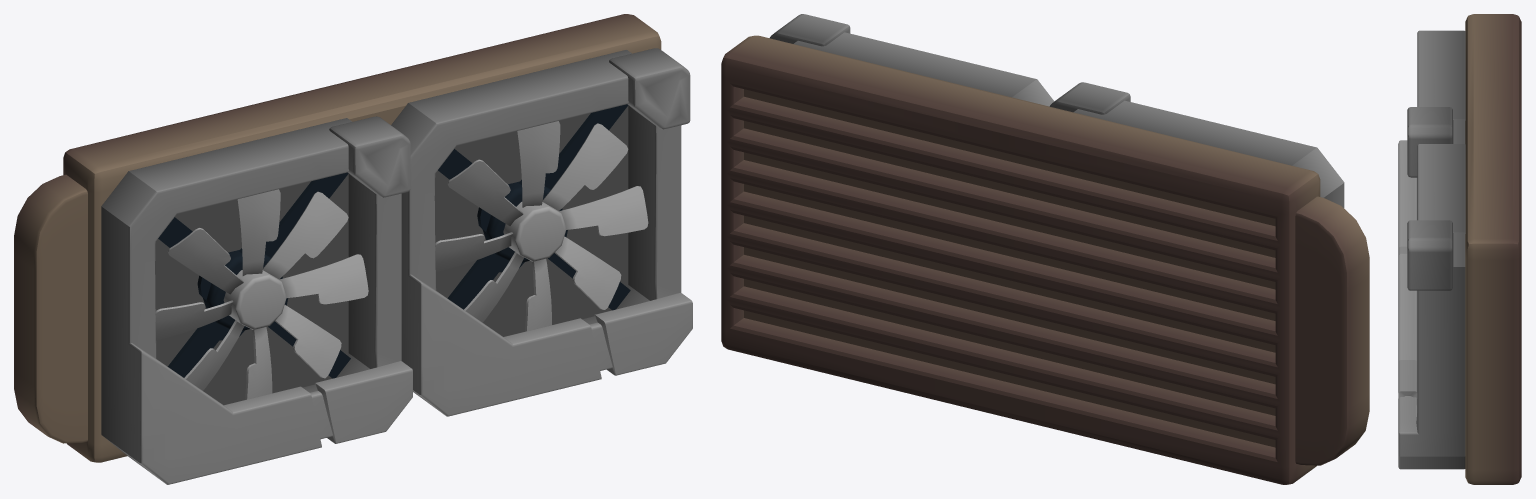
Rendered from Cooling_systems_lvl_09_V06.fbx.
3 views of the same model, side by side, from view 1: azimuth 30°, elevation 25°; view 2: azimuth 150°, elevation 25°; view 3: azimuth 270°, elevation 25° (orthographic). The views are drawn at different scales.
Visible parts, largest first — view 1: Body_Cooling, Fan_Cooling_01, Fan_Cooling_01.001; view 2: Body_Cooling; view 3: Body_Cooling.
Boxes of the visible parts, x1=… form: Body_Cooling: x1=14, y1=14, x2=692, y2=484; Fan_Cooling_01: x1=155, y1=189, x2=368, y2=399; Fan_Cooling_01.001: x1=435, y1=121, x2=648, y2=331; Body_Cooling: x1=721, y1=14, x2=1369, y2=484; Body_Cooling: x1=1398, y1=14, x2=1521, y2=484.
Bounding box in the file's own units: 119 × 53.89 × 24.48.
